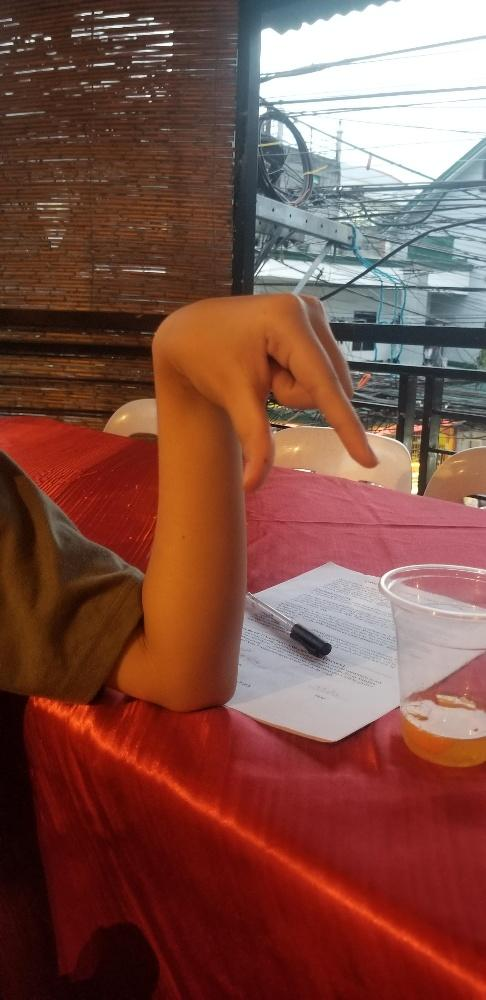q: (149, 291, 381, 495)
